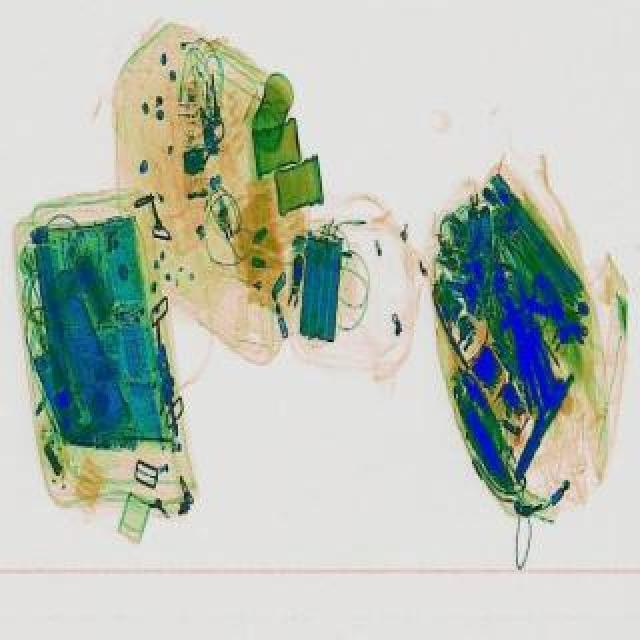wrench: (512, 376, 576, 488)
